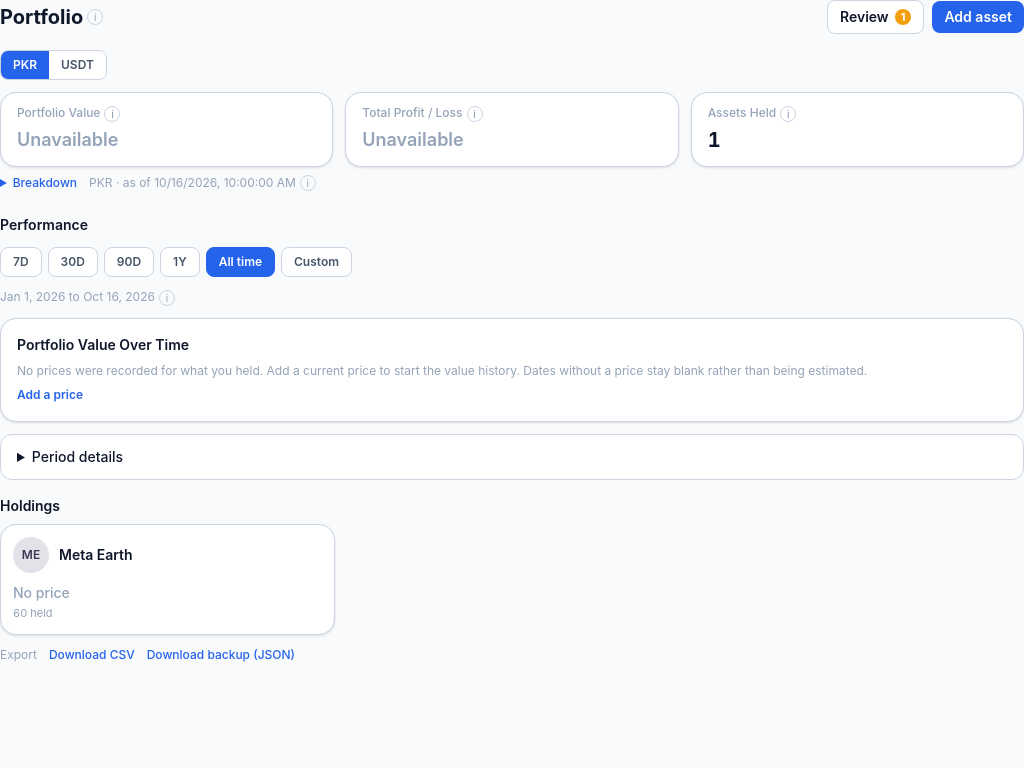
charts that have nothing to draw say what is missing and offer the fix › held but never priced: explains it, draws no value line, and Add a price opens the price form
Expected: the text "No prices were recorded for what you held" is shown, top-left (17, 363), bottom-right (867, 378)
Click the button "Add a price": (50, 395) top-left (17, 387), bottom-right (83, 403)
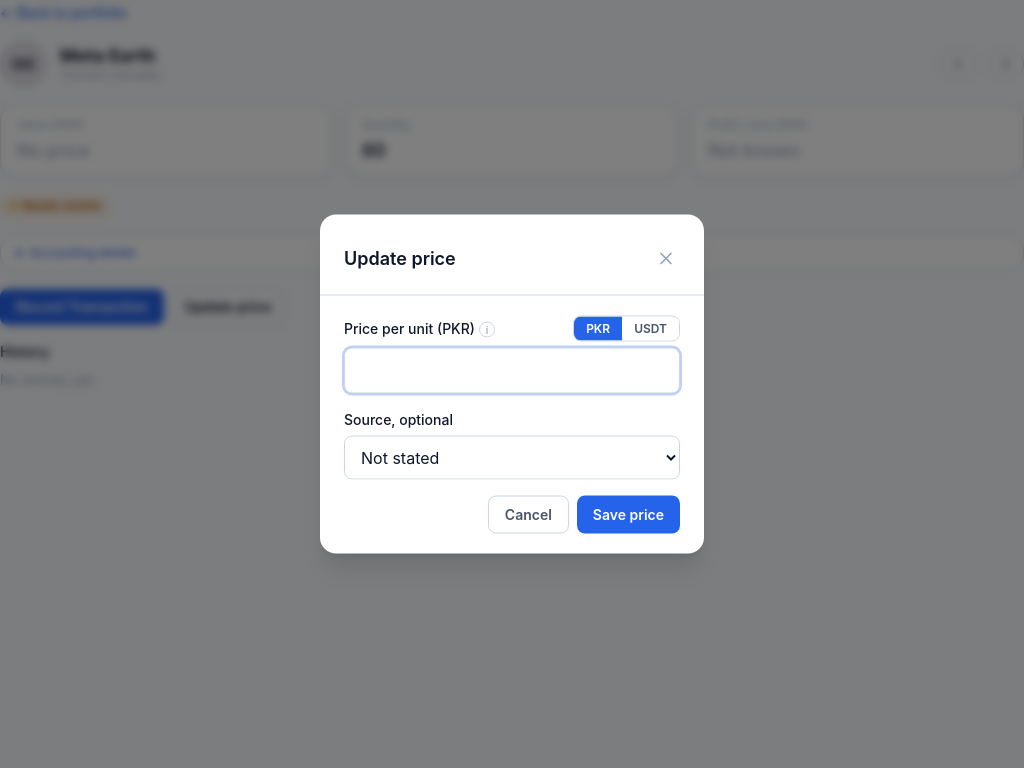
Now the field labelled "Price per unit (PKR) i" is shown, box top-left (344, 348), bottom-right (680, 394)
